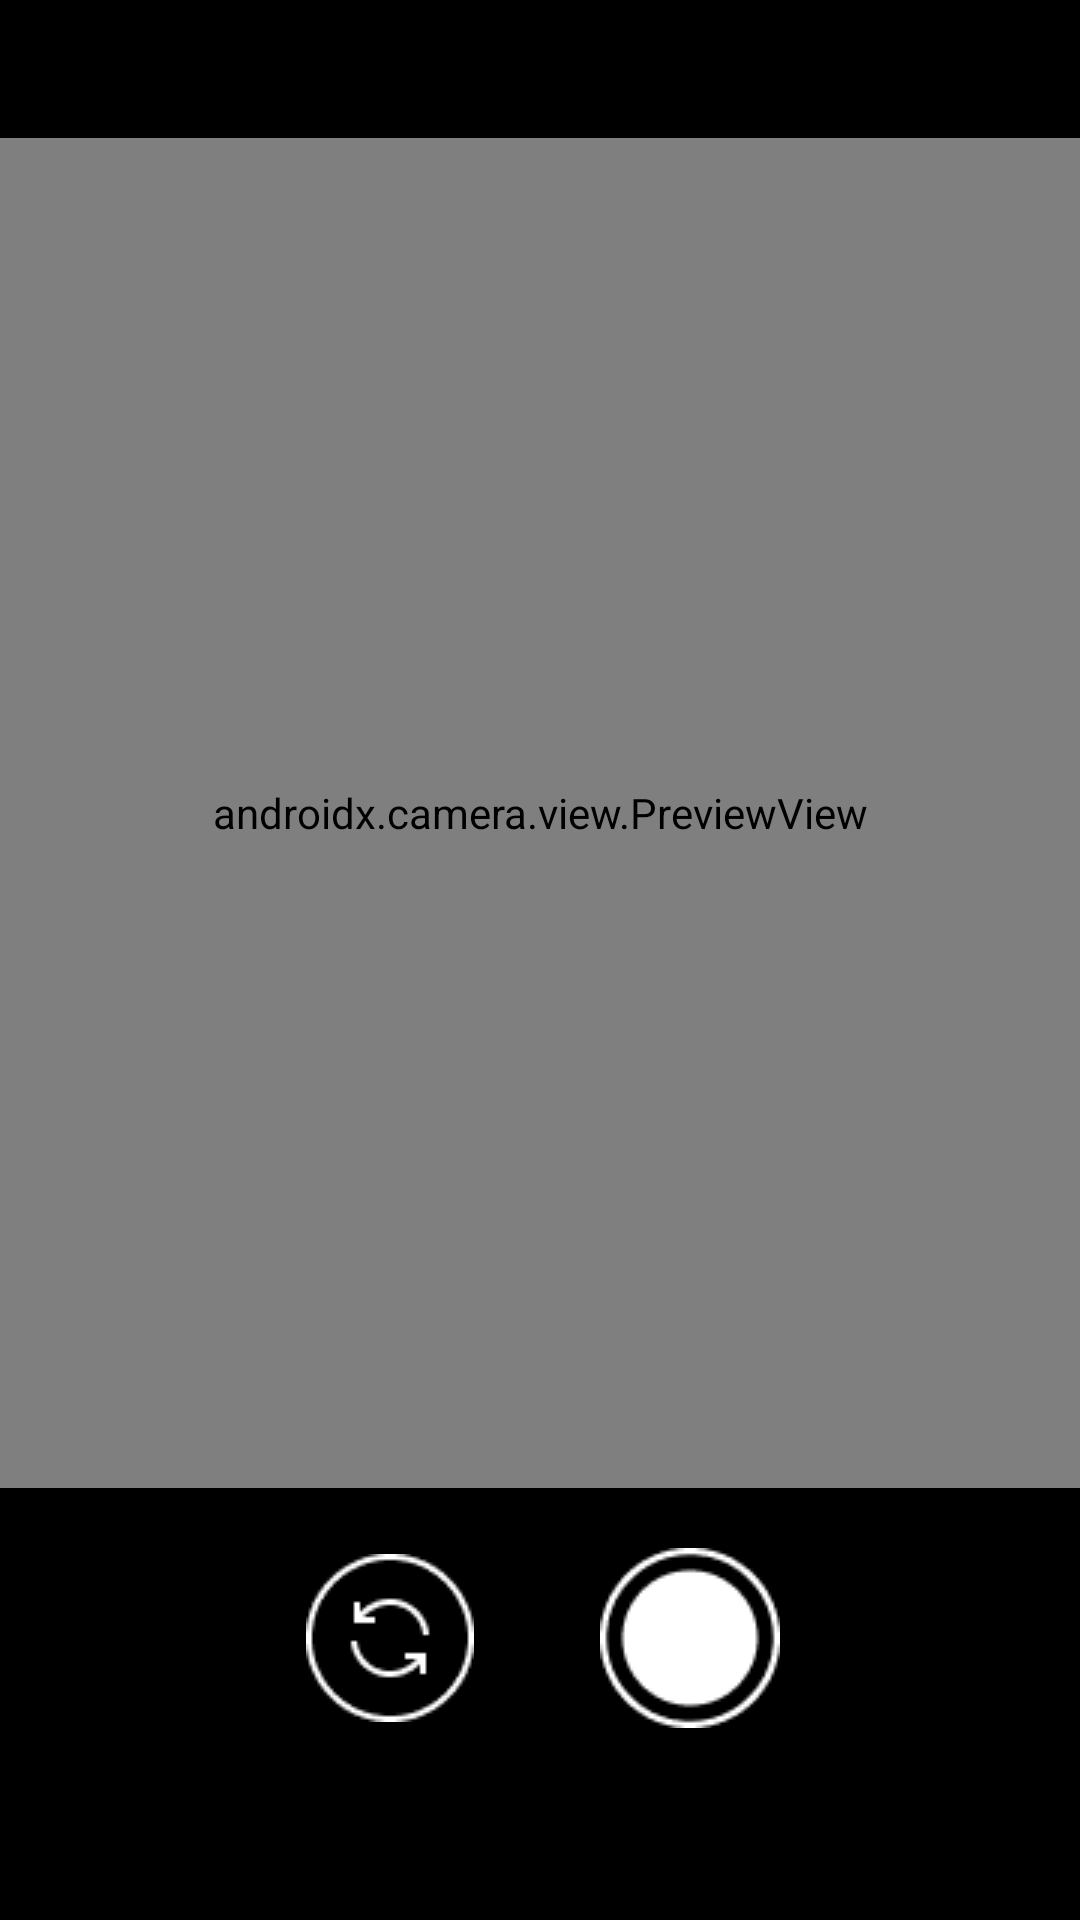

Named icons in this screenshot (1080w x 1920h) and their bounding boxes, (x1, y1, x2, y2):
refreshcamera: (306, 1554, 474, 1722)
shutter: (600, 1548, 780, 1728)
